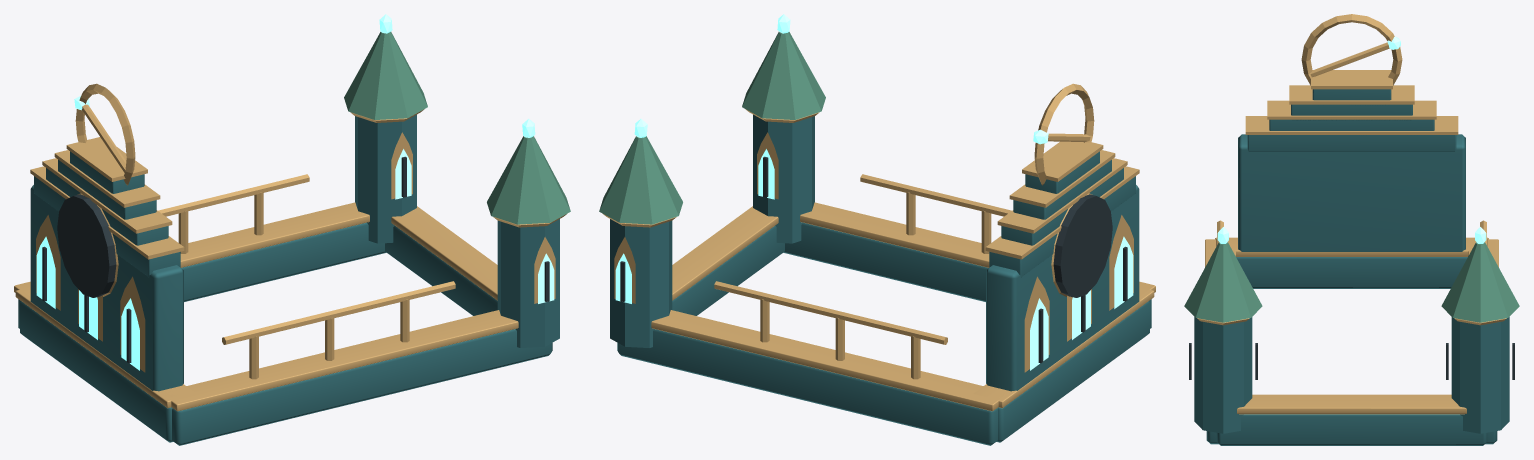
Rendered from crown-nautilus.glb.
The picture shows the model from 3 angles, left to right: view 1: azimuth 30°, elevation 25°; view 2: azimuth 150°, elevation 25°; view 3: azimuth 270°, elevation 25°; orthographic projection. The views are drawn at different scales.
Parts seen in each view (by area): view 1: crown-nautilus / Paint | armory deep Hanseatic enamel, crown-nautilus / Brass | armory machined champagne bronze, crown-nautilus / Copper | armory oxidized steep roof, crown-nautilus / Structure | armory dark pressure steel, crown-nautilus / Lamp | armory pale electric mint; view 2: crown-nautilus / Paint | armory deep Hanseatic enamel, crown-nautilus / Brass | armory machined champagne bronze, crown-nautilus / Copper | armory oxidized steep roof, crown-nautilus / Structure | armory dark pressure steel, crown-nautilus / Lamp | armory pale electric mint; view 3: crown-nautilus / Paint | armory deep Hanseatic enamel, crown-nautilus / Brass | armory machined champagne bronze, crown-nautilus / Copper | armory oxidized steep roof, crown-nautilus / Lamp | armory pale electric mint, crown-nautilus / Structure | armory dark pressure steel.
Part boxes in pixels (box(x1,y1,x2,y2)): crown-nautilus / Paint | armory deep Hanseatic enamel: box(18, 114, 559, 445); crown-nautilus / Brass | armory machined champagne bronze: box(14, 83, 567, 411); crown-nautilus / Copper | armory oxidized steep roof: box(344, 32, 570, 224); crown-nautilus / Structure | armory dark pressure steel: box(42, 156, 549, 363); crown-nautilus / Lamp | armory pale electric mint: box(36, 14, 554, 370); crown-nautilus / Paint | armory deep Hanseatic enamel: box(610, 114, 1151, 445); crown-nautilus / Brass | armory machined champagne bronze: box(602, 83, 1155, 411); crown-nautilus / Copper | armory oxidized steep roof: box(599, 32, 825, 224); crown-nautilus / Structure | armory dark pressure steel: box(620, 156, 1127, 363); crown-nautilus / Lamp | armory pale electric mint: box(615, 14, 1133, 370); crown-nautilus / Paint | armory deep Hanseatic enamel: box(1194, 89, 1509, 445); crown-nautilus / Brass | armory machined champagne bronze: box(1197, 14, 1506, 414); crown-nautilus / Copper | armory oxidized steep roof: box(1184, 242, 1519, 322); crown-nautilus / Lamp | armory pale electric mint: box(1217, 36, 1486, 243); crown-nautilus / Structure | armory dark pressure steel: box(1189, 343, 1514, 379).
Bounding box in the file's own units: 3.55 × 2.47 × 2.78.
